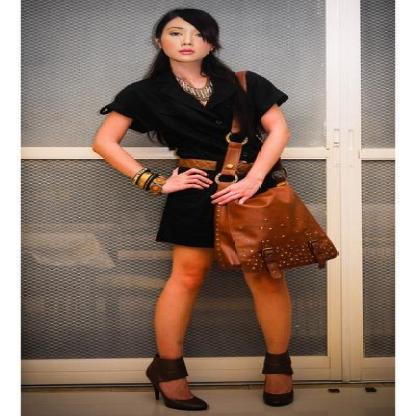bag: (192, 181, 337, 268)
dress: (100, 75, 287, 247)
shoe: (138, 353, 292, 410)
